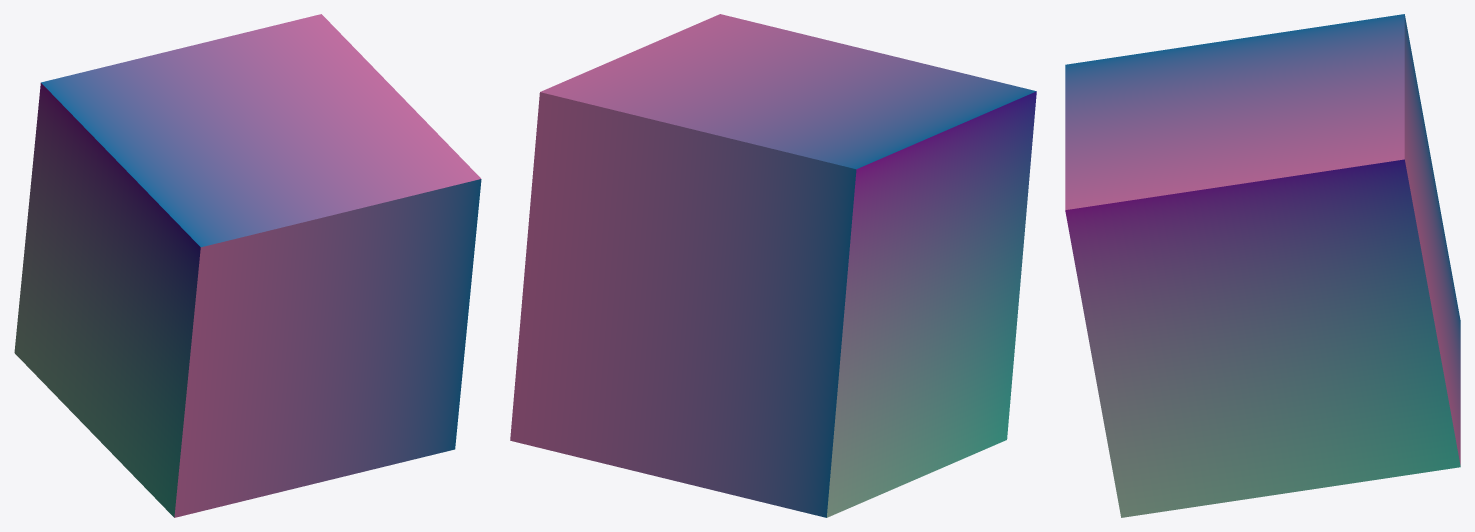
Rendered from TestBox2.fbx.
The picture shows the model from 3 angles, left to right: view 1: azimuth 30°, elevation 25°; view 2: azimuth 150°, elevation 25°; view 3: azimuth 270°, elevation 25°; orthographic projection. The views are drawn at different scales.
Visible parts, largest first — view 1: TestBox; view 2: TestBox; view 3: TestBox.
Part boxes in pixels (x1,y1,x2,y2): TestBox: (14,14,481,517); TestBox: (510,14,1036,517); TestBox: (1065,14,1460,517).
Size of the model in its own units: 100 by 115 by 115.
